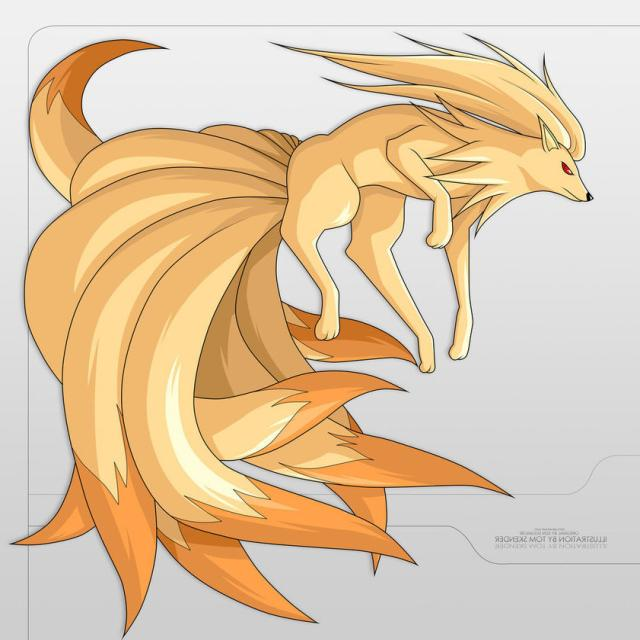Ninetales: (70, 36, 599, 382)
